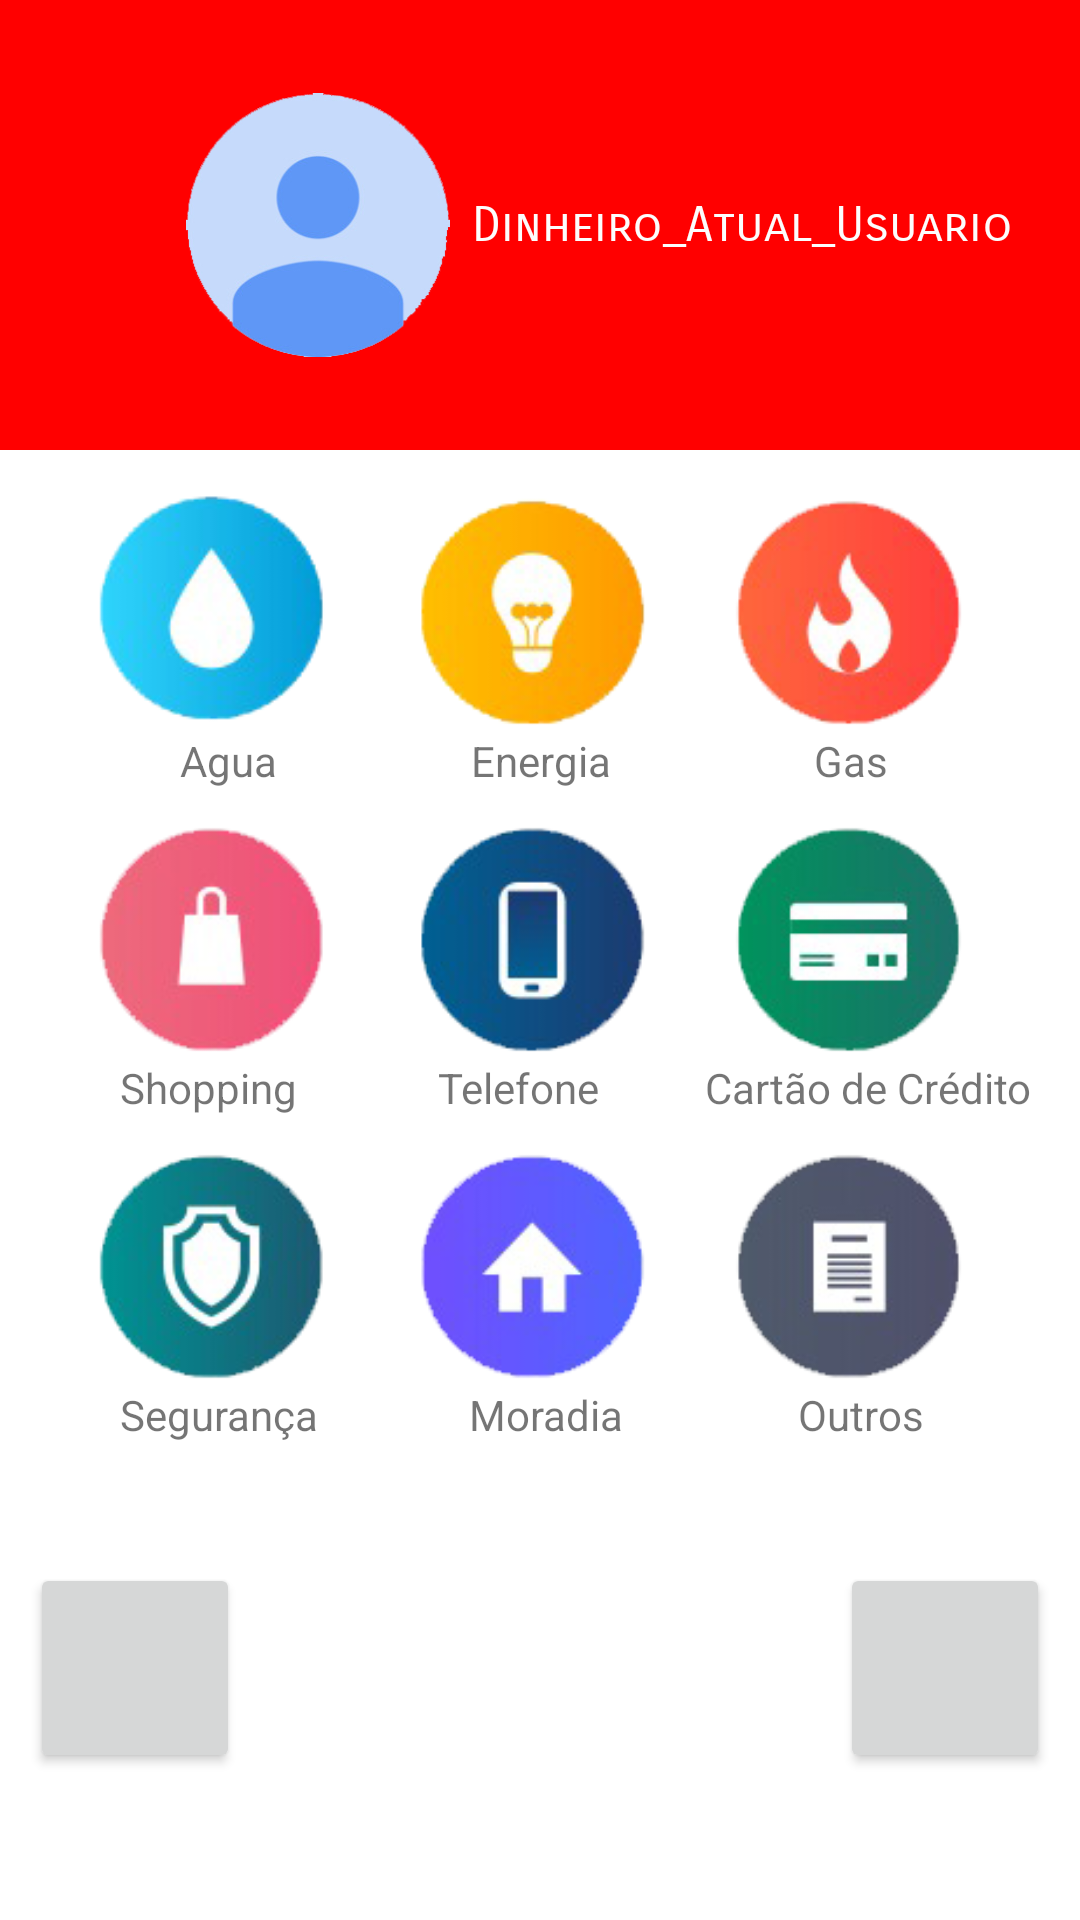

Where to tap for icons on this 1080×1920 app screen, as point (x, y):
foto perfil: point (318, 225)
